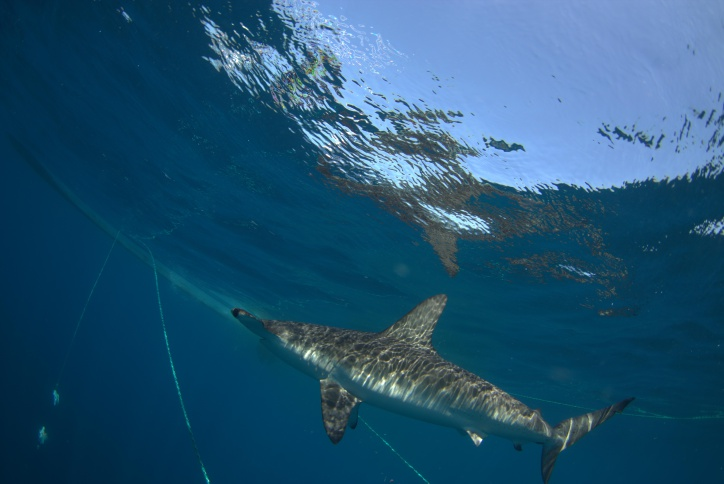Hammer: (222, 265, 637, 484)
